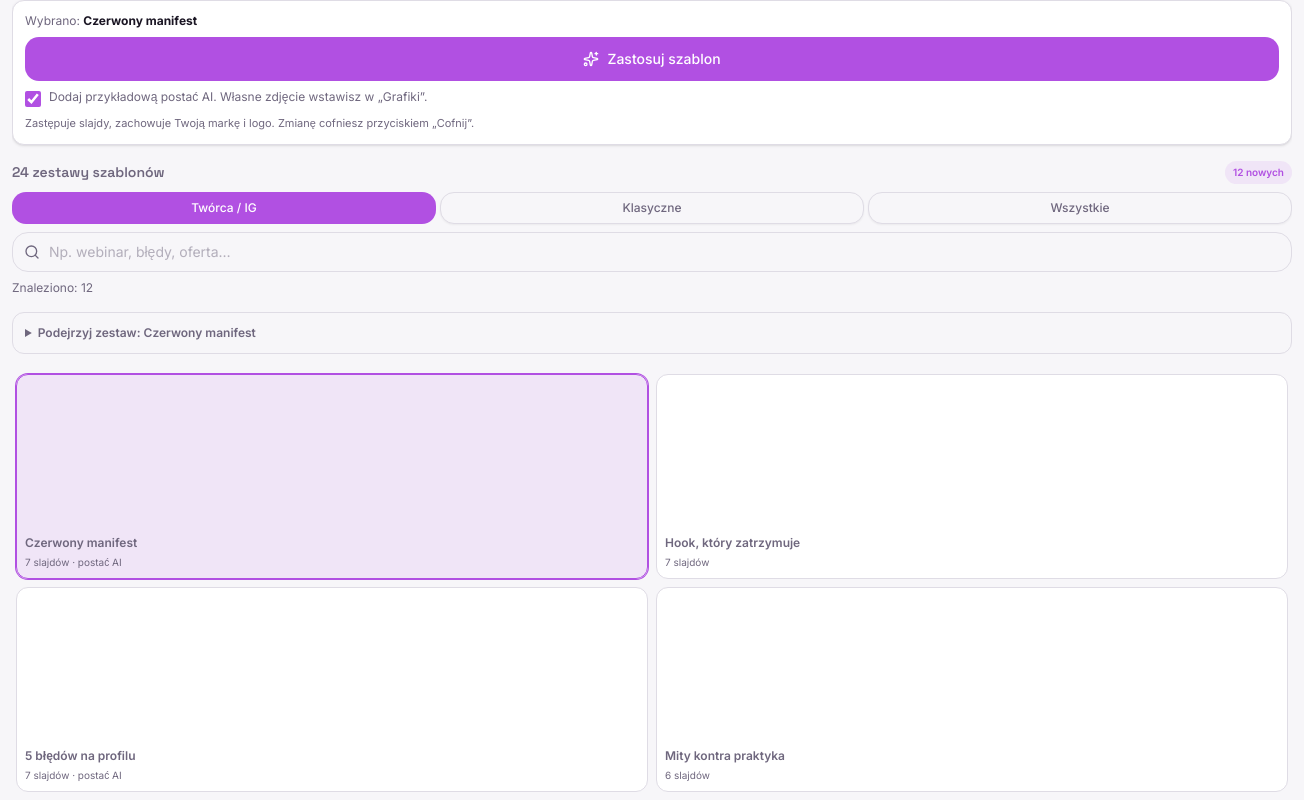
it: carousel template library › shows the new creator collection first and searches Polish text without requiring accents
Step 1. Type "bledow" into the search field → (652, 252), box [12, 232, 1292, 272]
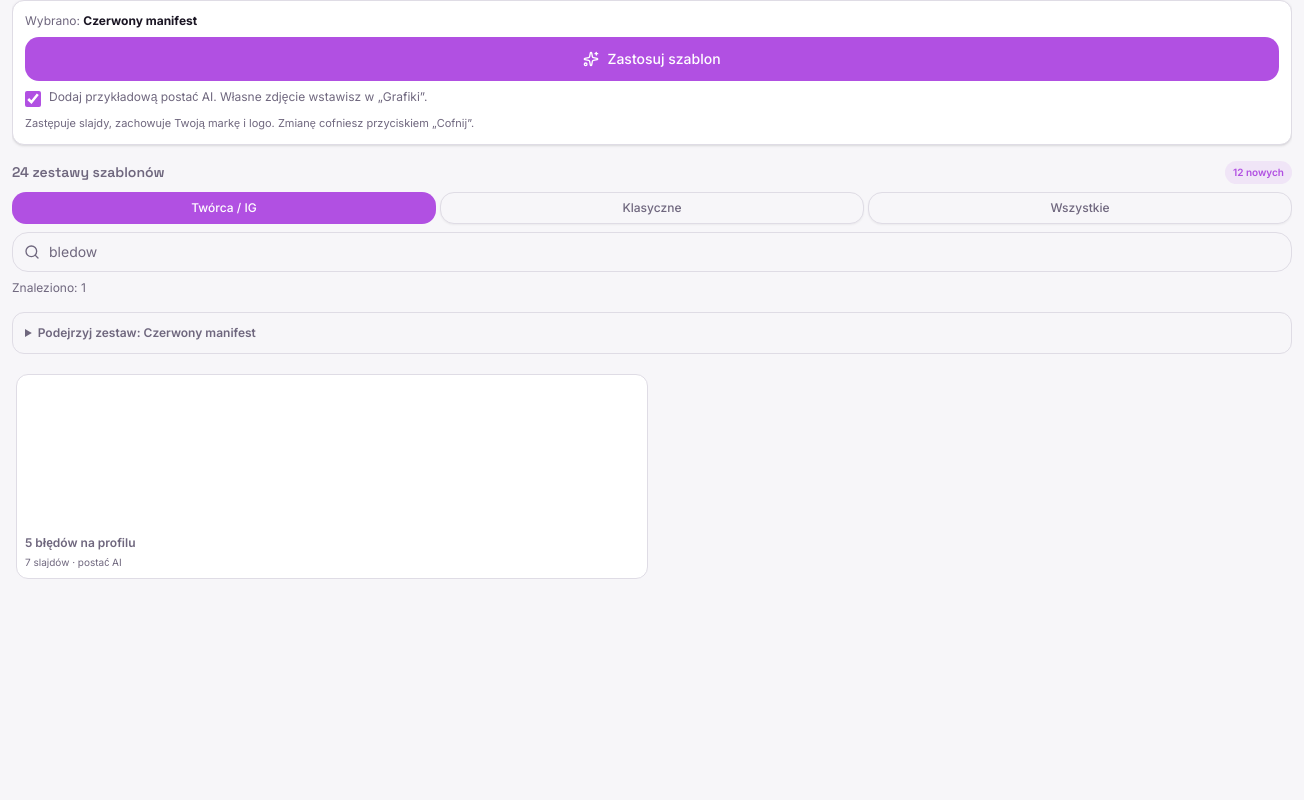
Expected: the number of buttons named "Wybierz szablon:" is 1, [16, 374, 648, 578]
Step 2. Clear the search field → (652, 252), box [12, 232, 1292, 272]
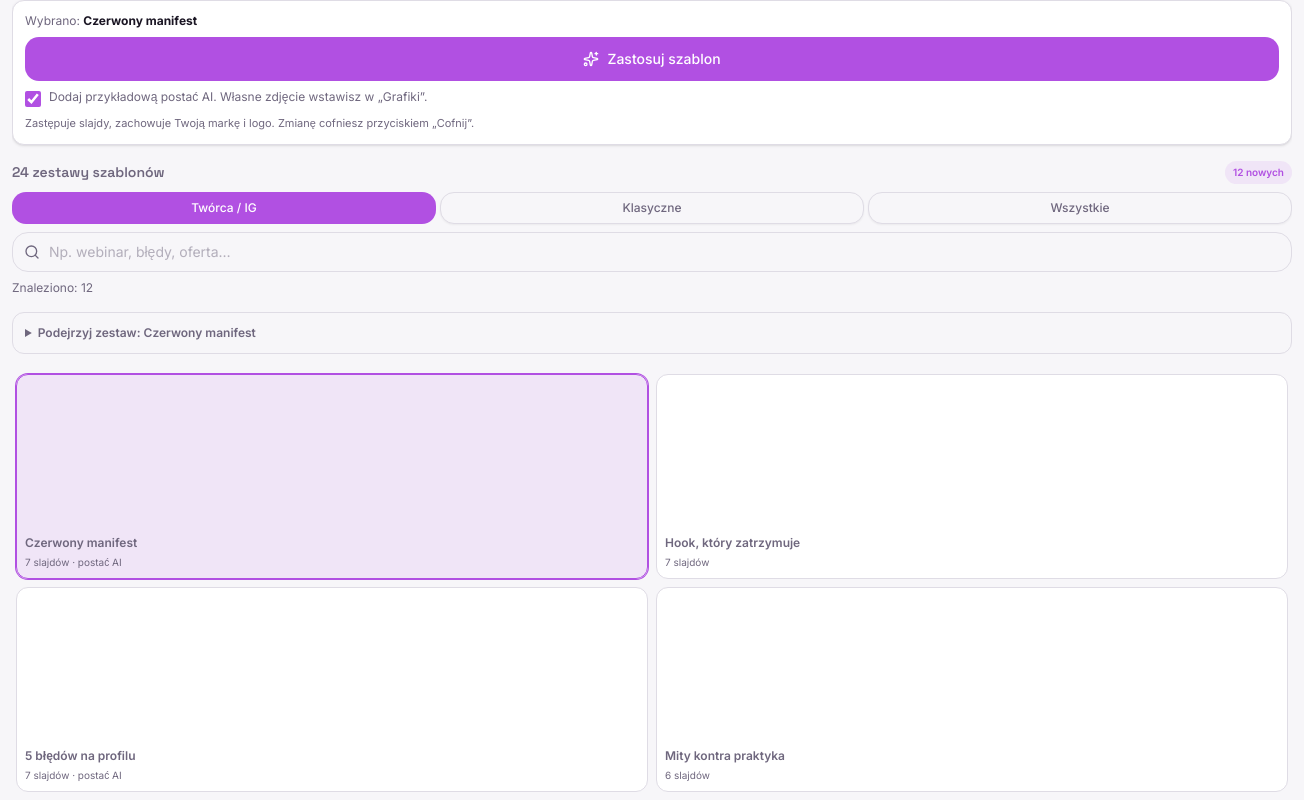
Step 3. Click the button "Wszystkie" → (1080, 208), box [868, 192, 1292, 224]
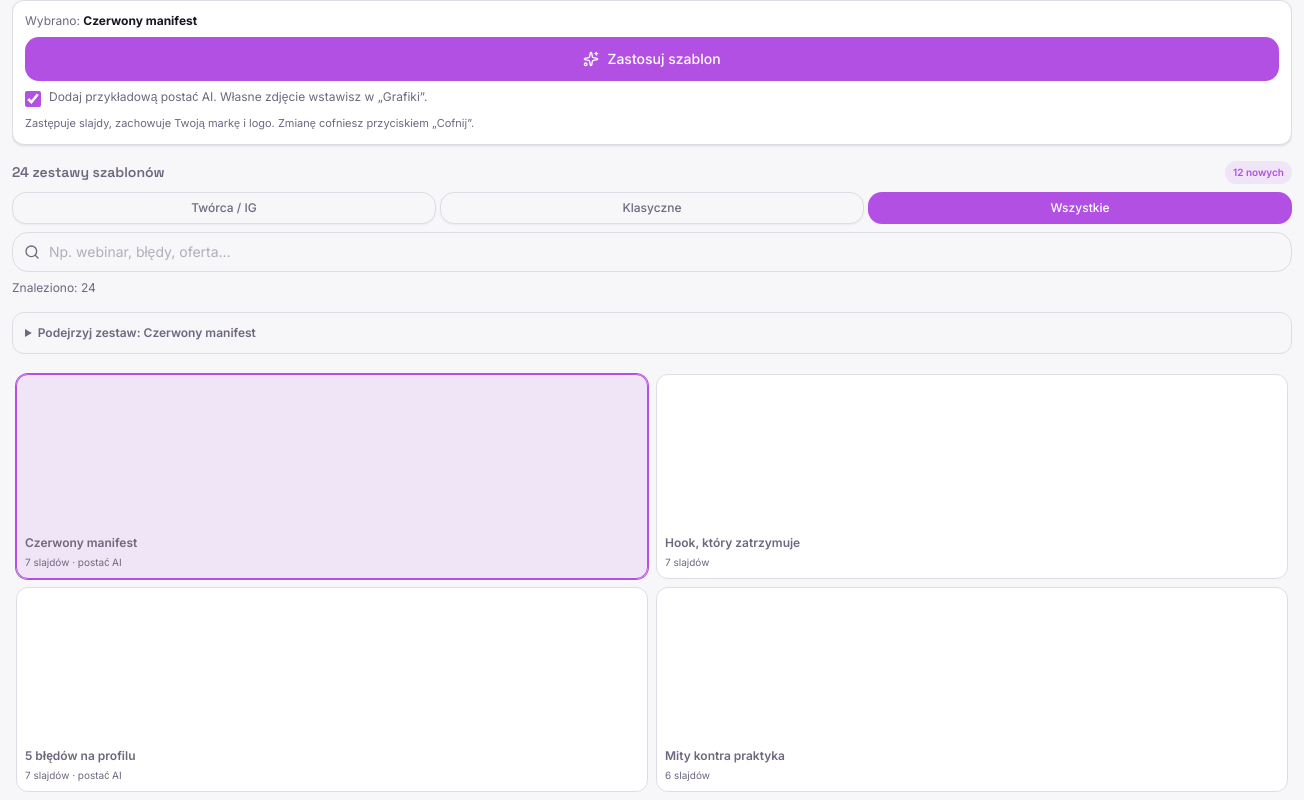
Step 4. Click the button "Klasyczne" → (652, 208), box [440, 192, 864, 224]
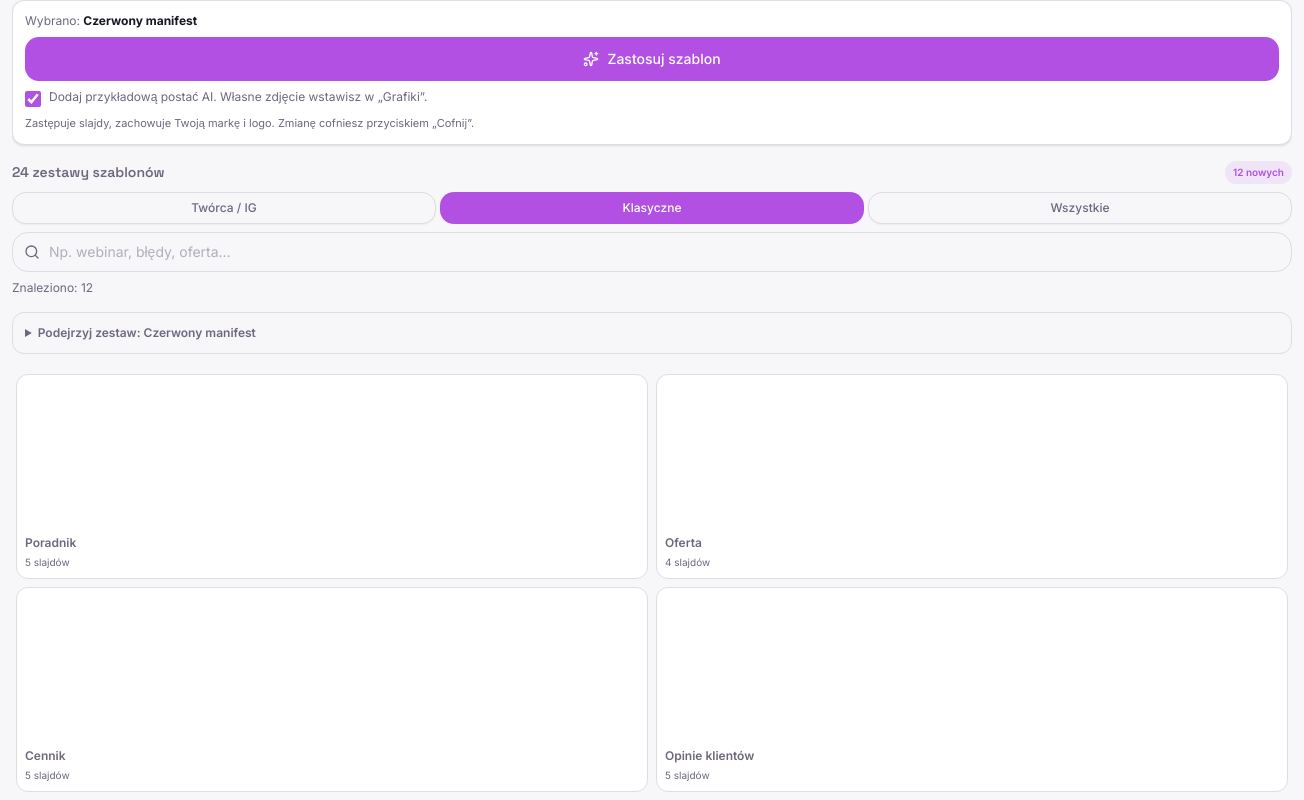
Expected: the number of buttons named "Wybierz szablon:" is 12
